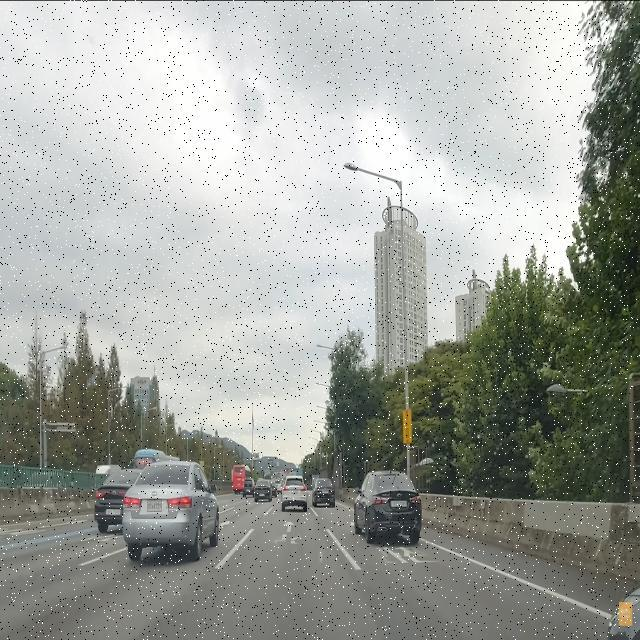forward: (245, 518, 332, 534)
